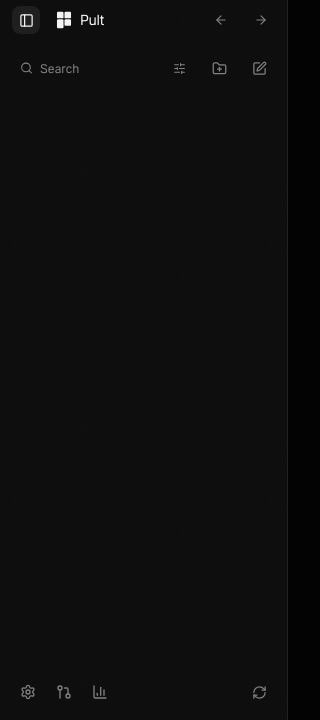
it: sidebar app updates › shows the available version, then installs with a circular progress and status
The image size is (320, 720).
Click the button named "Pult updates" at point(259, 692), box [243,676,275,708]
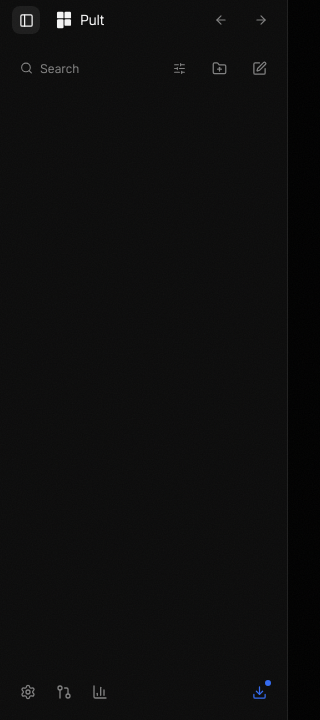
Expected: the button named "Pult updates" has attribute title="Update Pult to 0.2.0"
Click the button named "Pult updates" at point(259, 692), box [243,676,275,708]
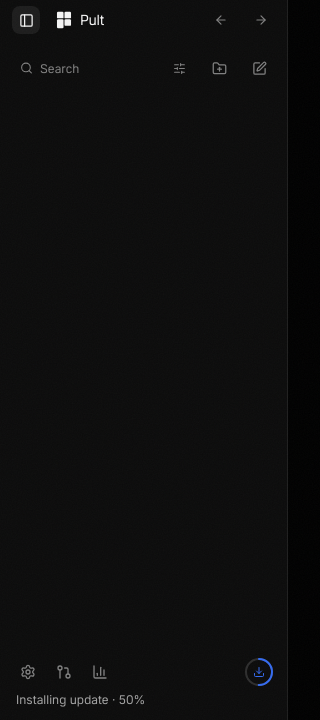
Expected: the message "Installing update · 50%" is shown, [16,692,145,707]
